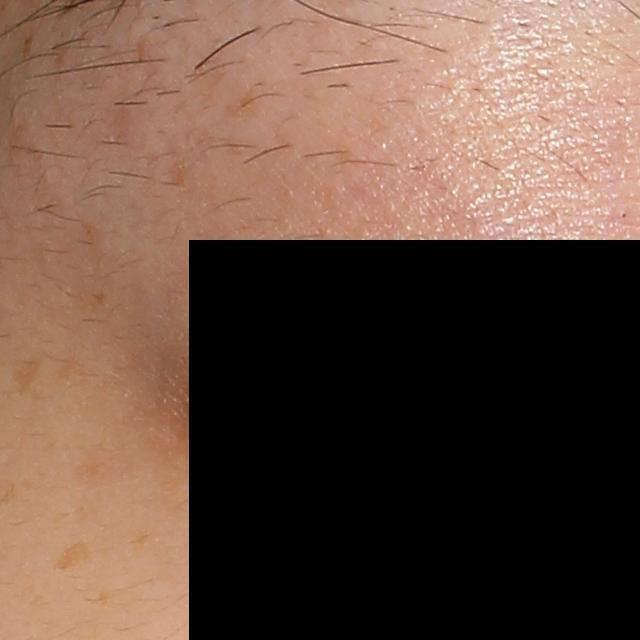melasma: (50, 537, 101, 574), (9, 355, 43, 398), (73, 459, 120, 485)
